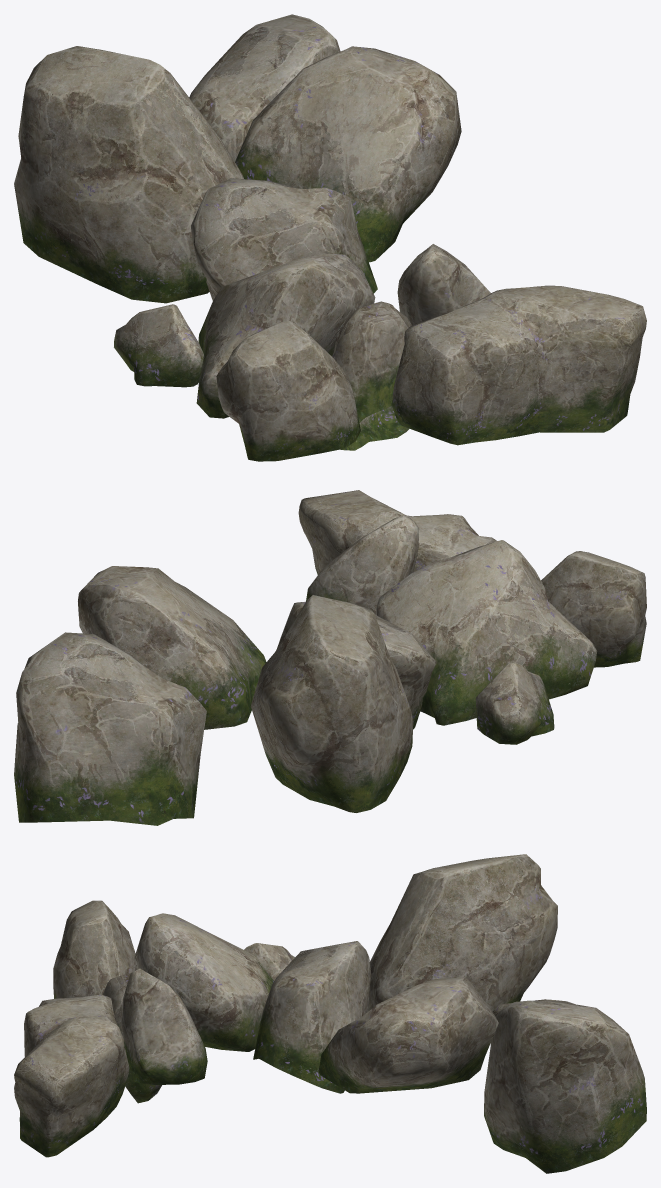
File: Rock2.fbx
3 renders of one model, top to bottom at view 1: azimuth 30°, elevation 25°; view 2: azimuth 150°, elevation 25°; view 3: azimuth 270°, elevation 25°, orthographic. The views are drawn at different scales.
Visible parts, largest first — view 1: SM_a_001_Rock_02a; view 2: SM_a_001_Rock_02a; view 3: SM_a_001_Rock_02a.
Boxes of the visible parts, bbox=[...] form: SM_a_001_Rock_02a: bbox=[14, 14, 646, 461]; SM_a_001_Rock_02a: bbox=[14, 490, 646, 825]; SM_a_001_Rock_02a: bbox=[14, 854, 646, 1173].
Size of the model in its own units: 665 by 397 by 1058.
